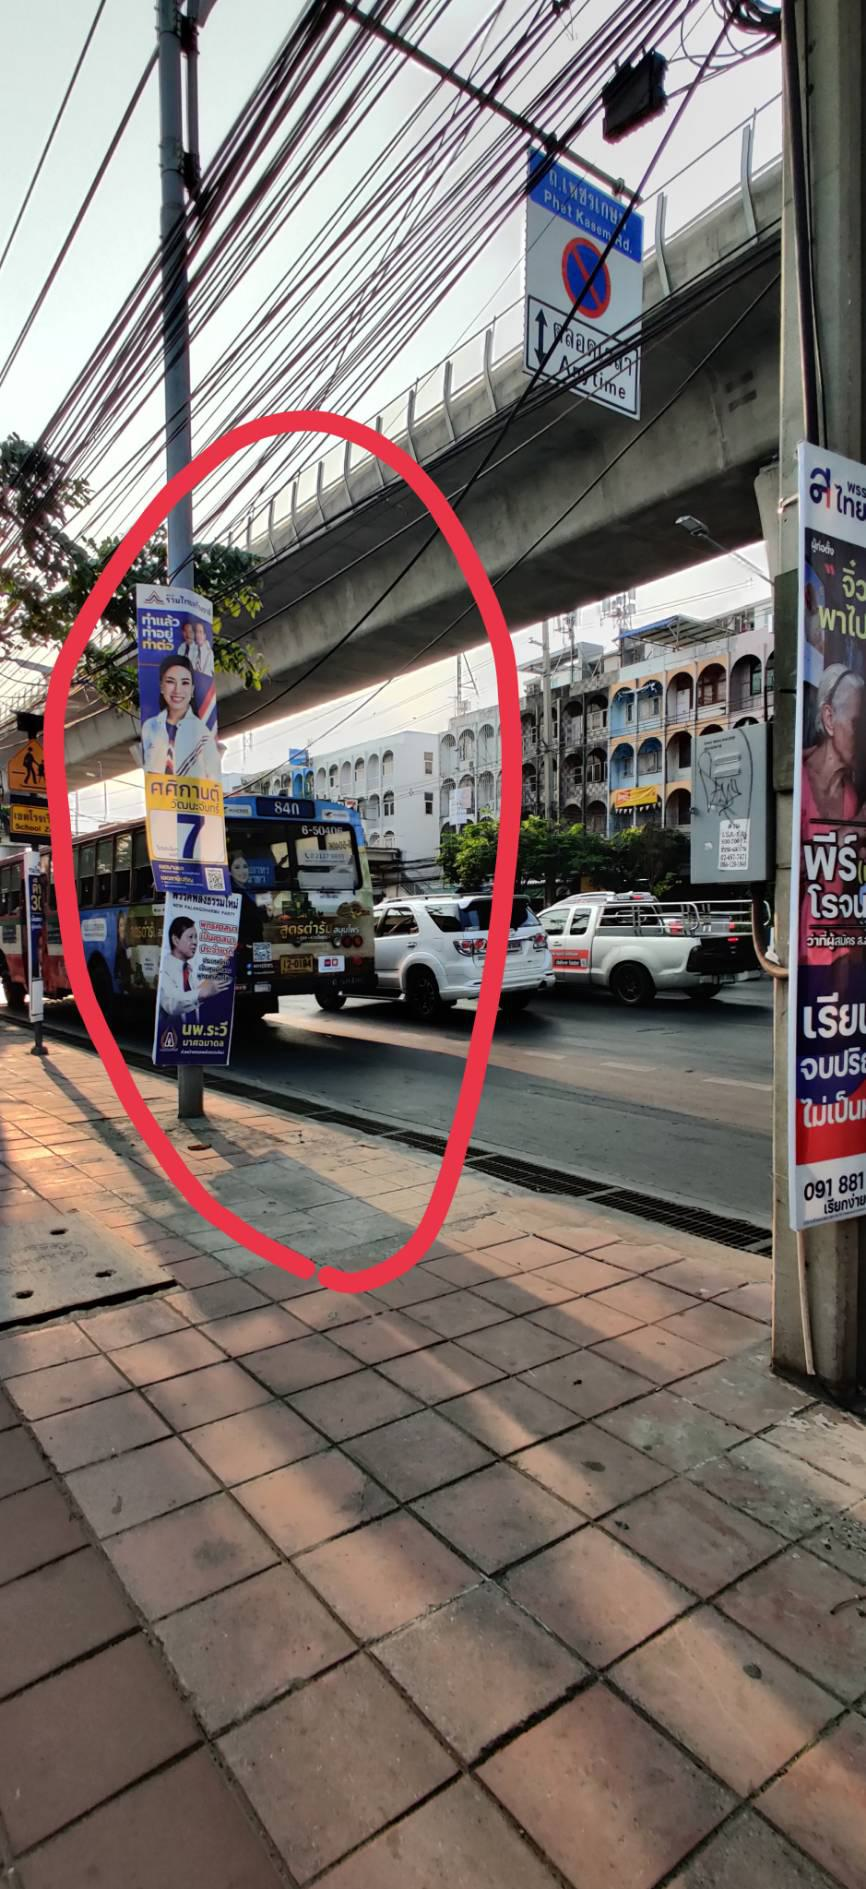Banner: (773, 439, 866, 1244), (134, 579, 238, 1070)
